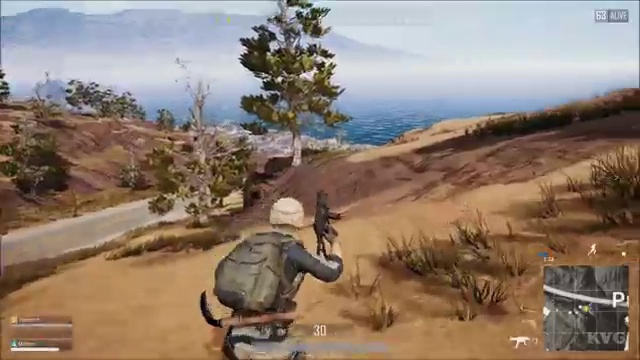Player: (190, 186, 376, 321)
